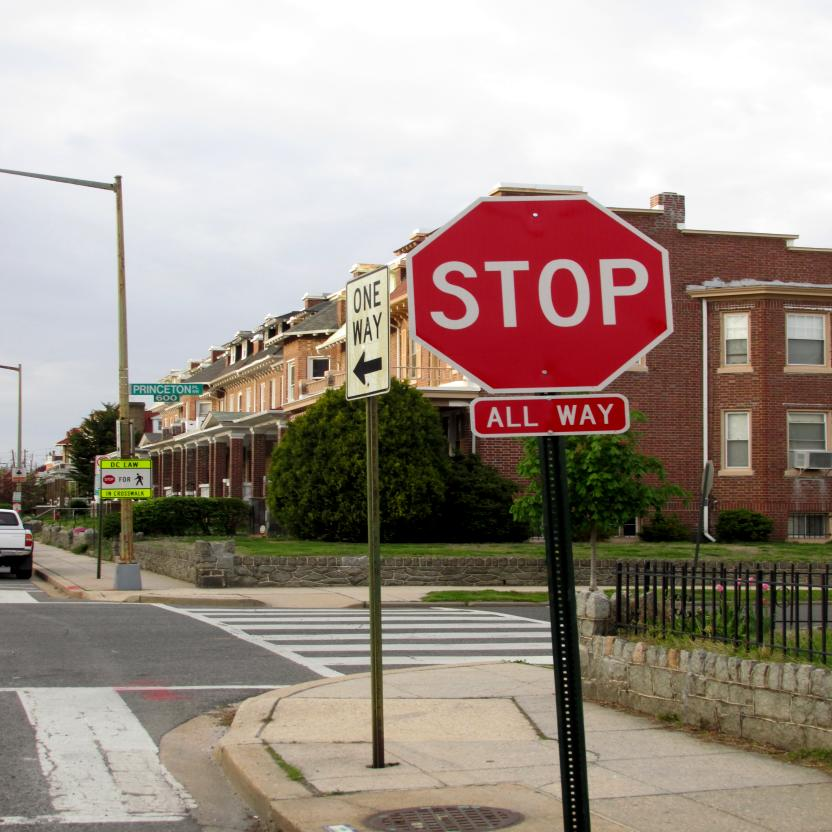Pole: (534, 440, 592, 830), (361, 399, 393, 764)
Sign: (409, 193, 674, 392)
